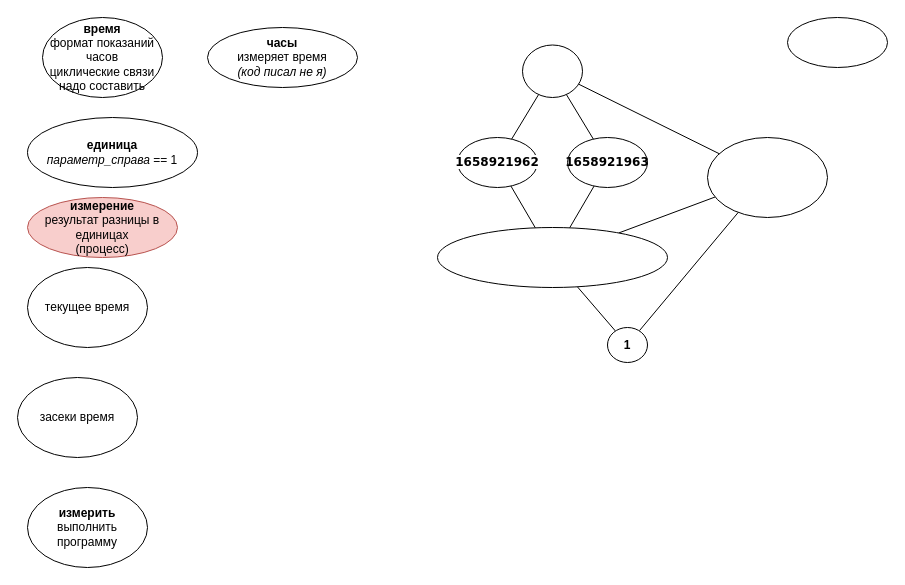
Some shapes in this 905 by 585 pixel diagram are drawn without their labels. Each missing label, with the box of its shape:
время: (522, 44, 582, 98)
разница параметр_слева - параметр_справа: (436, 226, 668, 288)
секунда 1 разница время: (706, 136, 828, 218)
сохрани_узлы python: (786, 16, 888, 68)
